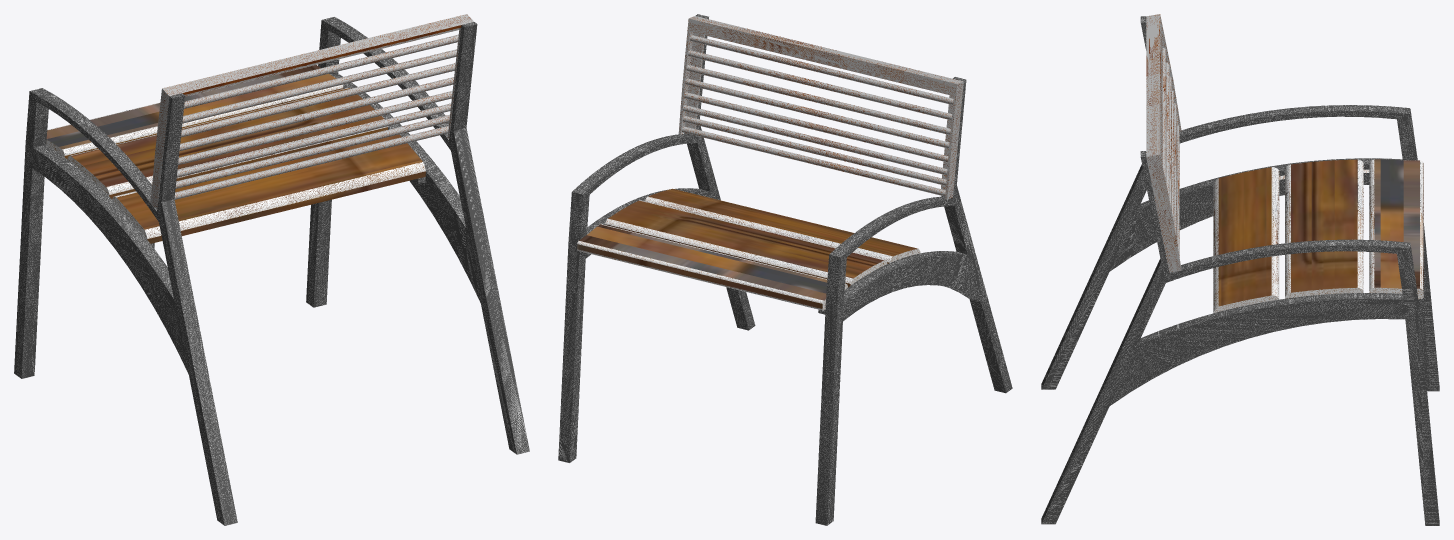
3 renders of one model, left to right at view 1: azimuth 30°, elevation 25°; view 2: azimuth 150°, elevation 25°; view 3: azimuth 270°, elevation 25°, orthographic. The views are drawn at different scales.
Visible parts, largest first — view 1: mesh1_mesh1-geometry, mesh4_mesh4-geometry, mesh6_mesh6-geometry, mesh3_mesh3-geometry, mesh5_mesh5-geometry, mesh7_mesh7-geometry, mesh2_mesh2-geometry; view 2: mesh1_mesh1-geometry, mesh6_mesh6-geometry, mesh2_mesh2-geometry, mesh5_mesh5-geometry, mesh7_mesh7-geometry, mesh3_mesh3-geometry, mesh4_mesh4-geometry; view 3: mesh1_mesh1-geometry, mesh4_mesh4-geometry, mesh6_mesh6-geometry.
Boxes of the visible parts, x1,y1,x2,y2 form: mesh1_mesh1-geometry: [14, 14, 529, 525]; mesh4_mesh4-geometry: [182, 49, 456, 123]; mesh6_mesh6-geometry: [181, 63, 455, 137]; mesh3_mesh3-geometry: [184, 34, 458, 108]; mesh5_mesh5-geometry: [176, 103, 451, 177]; mesh7_mesh7-geometry: [179, 77, 453, 151]; mesh2_mesh2-geometry: [178, 91, 452, 165]; mesh1_mesh1-geometry: [558, 14, 1012, 525]; mesh6_mesh6-geometry: [686, 65, 950, 134]; mesh2_mesh2-geometry: [684, 92, 948, 162]; mesh5_mesh5-geometry: [683, 105, 947, 175]; mesh7_mesh7-geometry: [685, 78, 949, 148]; mesh3_mesh3-geometry: [689, 35, 953, 104]; mesh4_mesh4-geometry: [688, 50, 951, 120]; mesh1_mesh1-geometry: [1041, 14, 1439, 525]; mesh4_mesh4-geometry: [1162, 48, 1166, 182]; mesh6_mesh6-geometry: [1166, 62, 1169, 199].
Size of the model in its own units: 0.5032 by 0.6199 by 0.6021.
